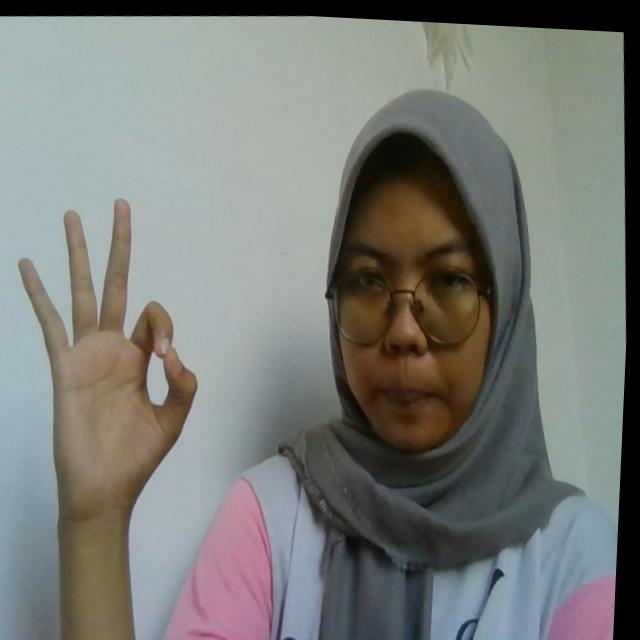F: (9, 185, 217, 521)
